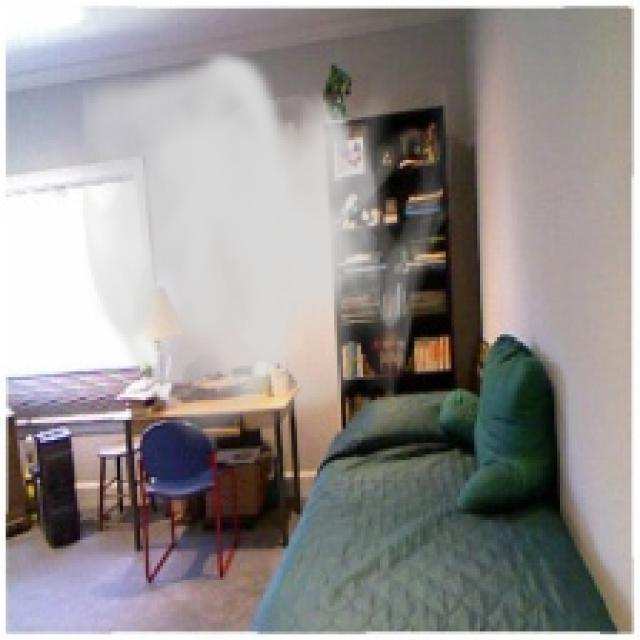smoke: (69, 49, 457, 452)
